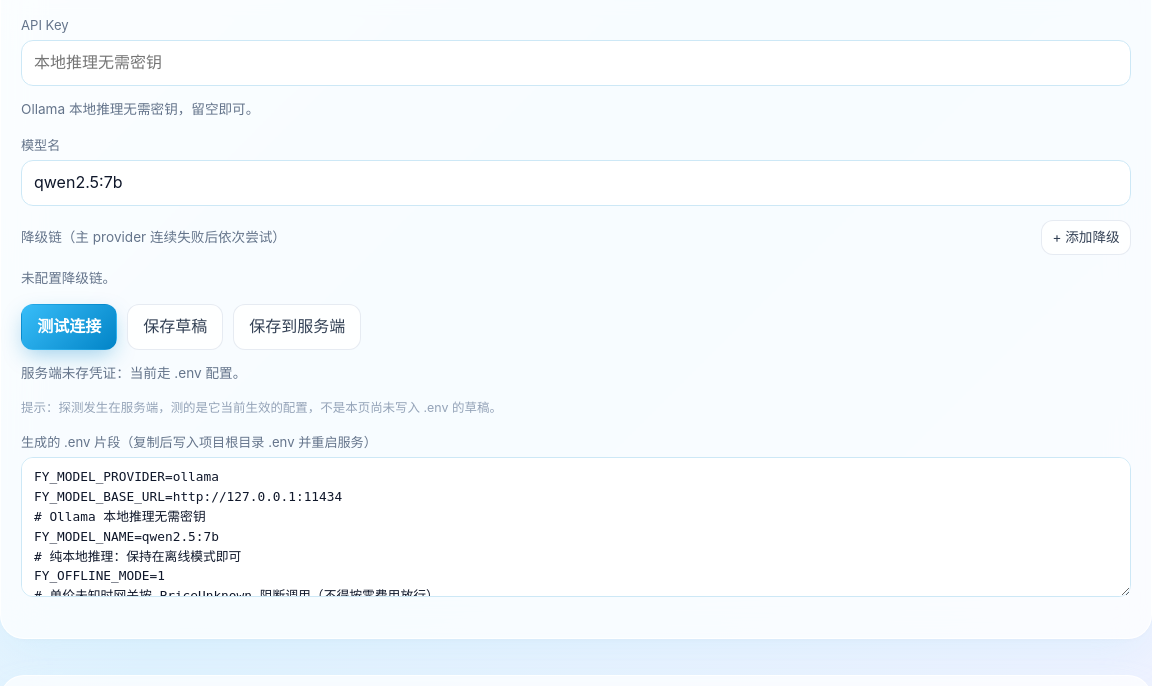
it: SettingsPage 模型接入卡 (W4) › 无已配置端点时展示后端 hint 的指引
(page scrolled)
Click the button with test id "probe-button". click: (69, 326)
box: 21,304 -> 117,350
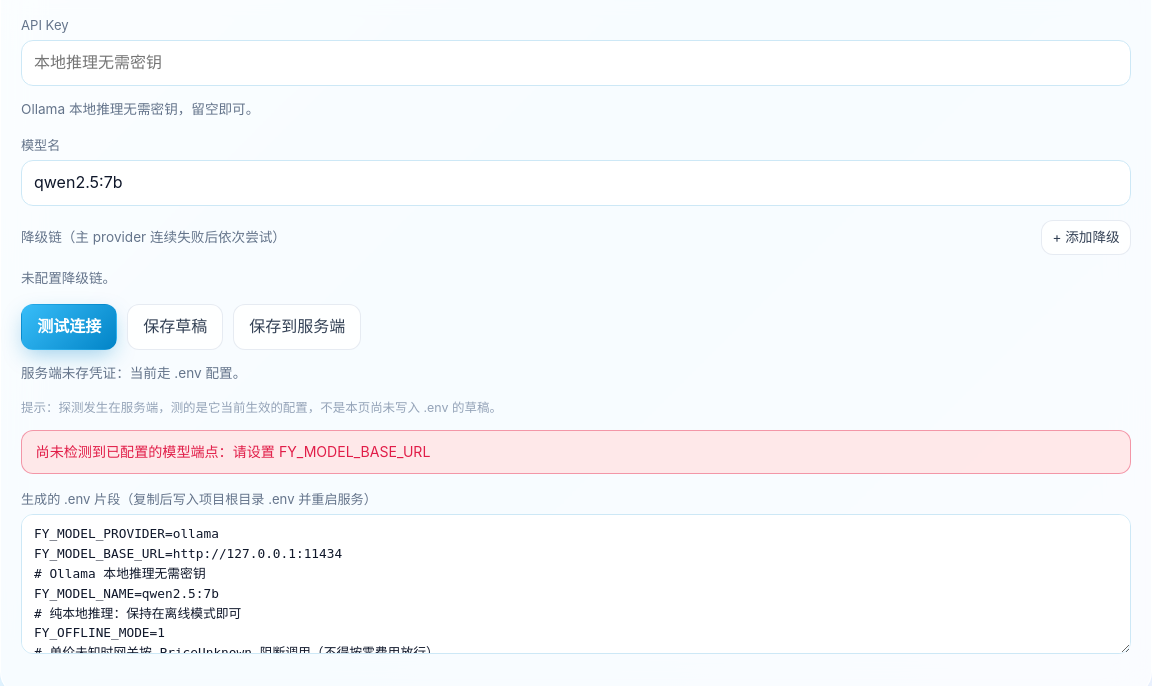
Check: the message with test id "probe-error-box" shows "FY_MODEL_BASE_URL", box 36,443 -> 430,460
